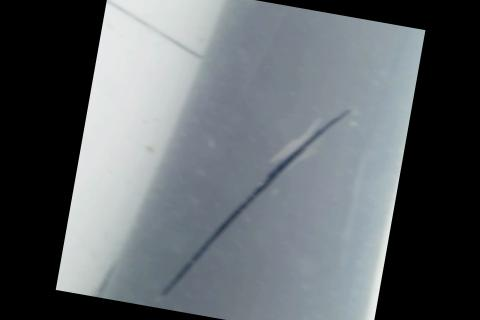keretakan: (160, 82, 348, 320)
